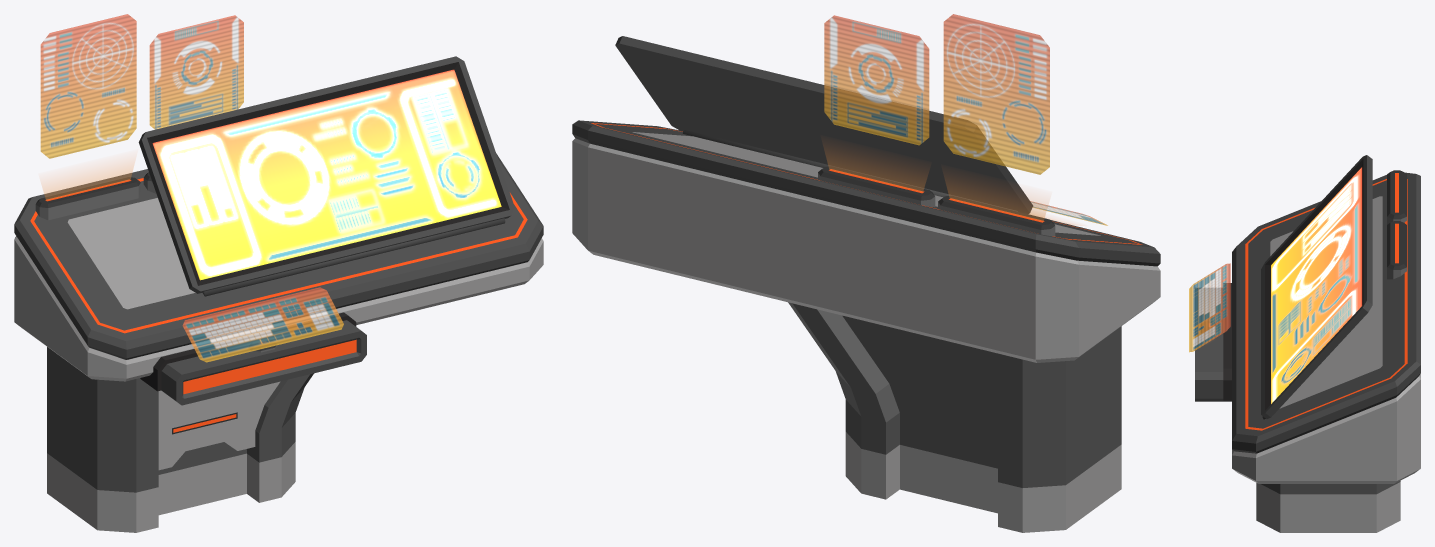
Rendered from Terminal_008.glb.
The picture shows the model from 3 angles, left to right: view 1: azimuth 30°, elevation 25°; view 2: azimuth 150°, elevation 25°; view 3: azimuth 270°, elevation 25°; orthographic projection. The views are drawn at different scales.
Visible parts, largest first — view 1: Terminal_008; view 2: Terminal_008; view 3: Terminal_008.
Part boxes in pixels (box(x1,y1,x2,y2)): Terminal_008: box(14, 14, 543, 532); Terminal_008: box(572, 14, 1160, 532); Terminal_008: box(1189, 155, 1420, 532).
Size of the model in its own units: 2.04 by 1.93 by 0.9374.
Materials: 5 (5 with a texture image).
